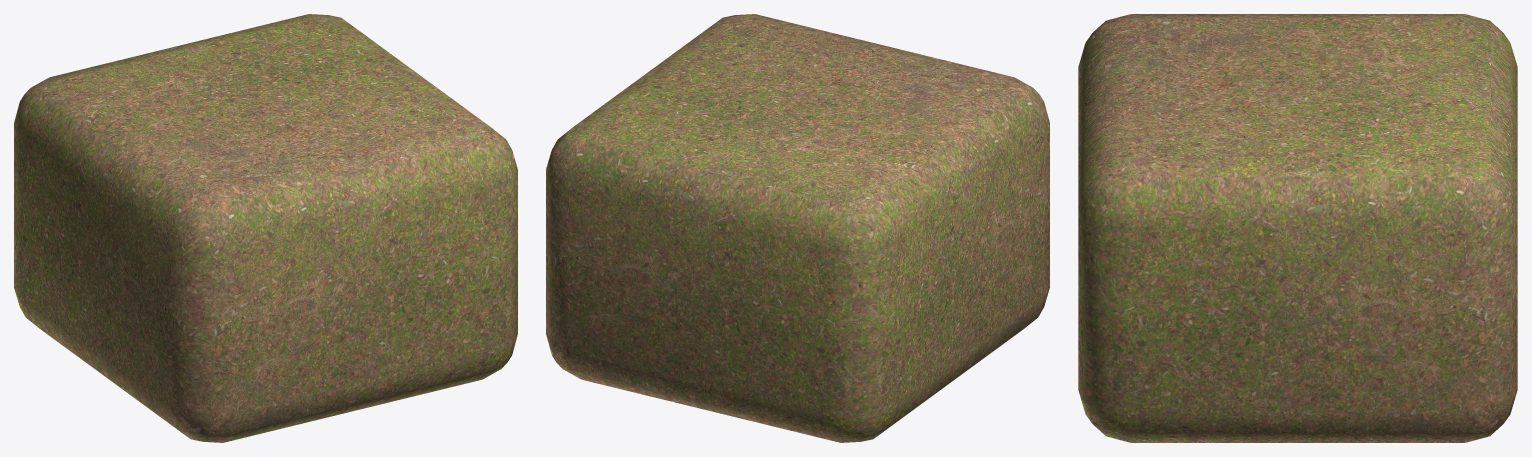
File: plat_tree_m.glb
The picture shows the model from 3 angles, left to right: view 1: azimuth 30°, elevation 25°; view 2: azimuth 150°, elevation 25°; view 3: azimuth 270°, elevation 25°; orthographic projection. The views are drawn at different scales.
Visible parts, largest first — view 1: top; view 2: top; view 3: top.
Part boxes in pixels (<box>): top: <box>14,14,517,442</box>; top: <box>546,14,1049,442</box>; top: <box>1078,14,1517,442</box>.
Bounding box in the file's own units: 1 × 0.7 × 1.
Materials: 1 (1 with a texture image).
